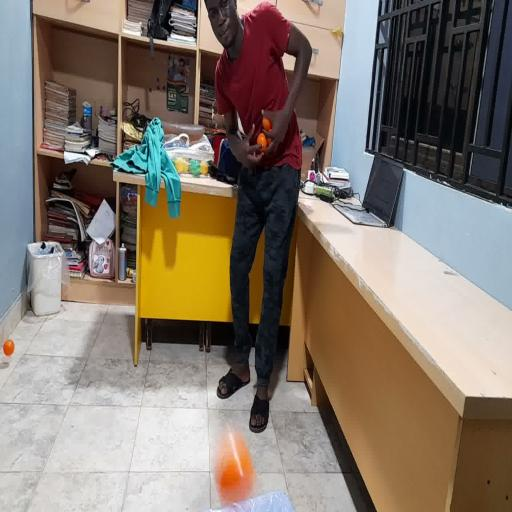plastic-ball: (211, 427, 255, 507)
